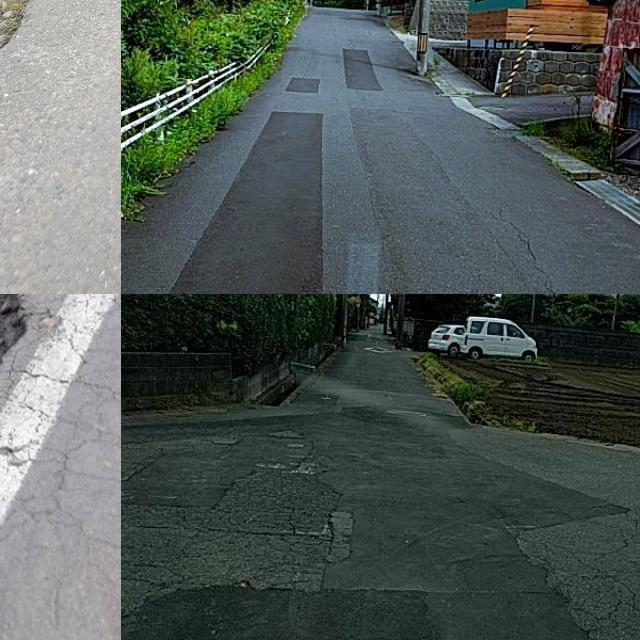Sambungan: (308, 440, 620, 640), (164, 110, 323, 294), (340, 45, 380, 90), (291, 74, 322, 96)
